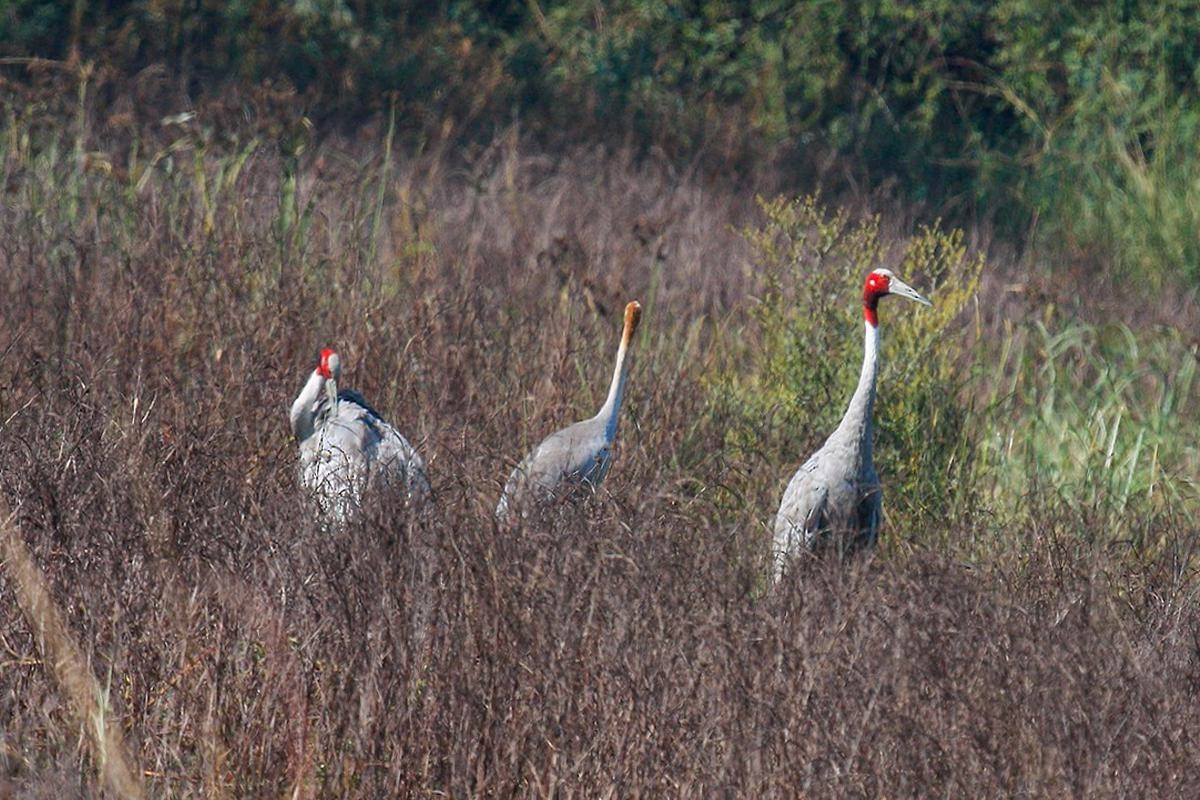crane: (796, 250, 929, 601), (488, 290, 660, 533), (283, 340, 429, 533)
